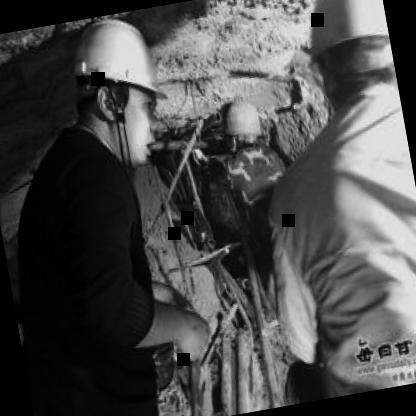helmet: (57, 8, 172, 160), (279, 0, 402, 129), (218, 95, 270, 155)
